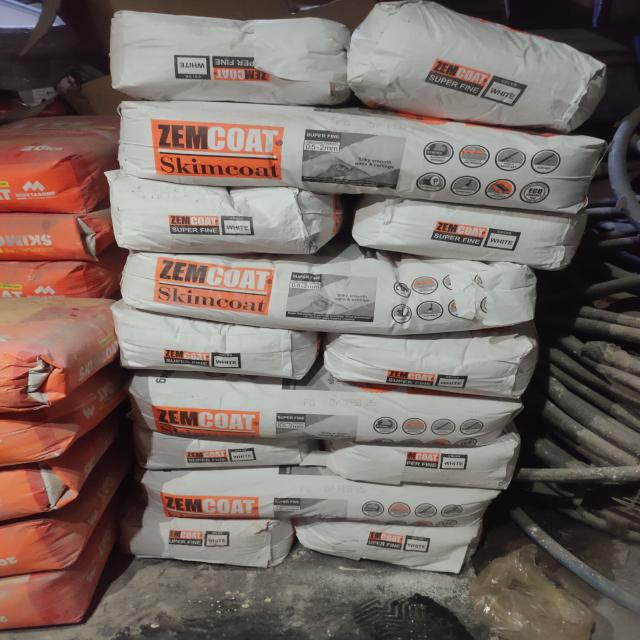Skim coat: (122, 126, 599, 189), (125, 256, 535, 322), (140, 377, 513, 449), (357, 22, 587, 110), (114, 13, 343, 101), (144, 475, 489, 525), (354, 200, 572, 267), (108, 184, 325, 251), (117, 308, 305, 369), (345, 331, 532, 392), (301, 521, 479, 571), (129, 519, 289, 566), (335, 447, 515, 485), (153, 439, 284, 468)
